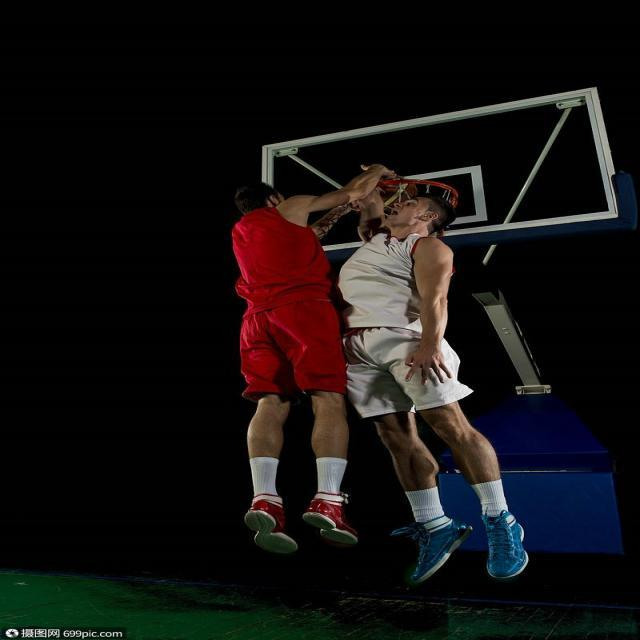rim: (371, 174, 415, 200)
